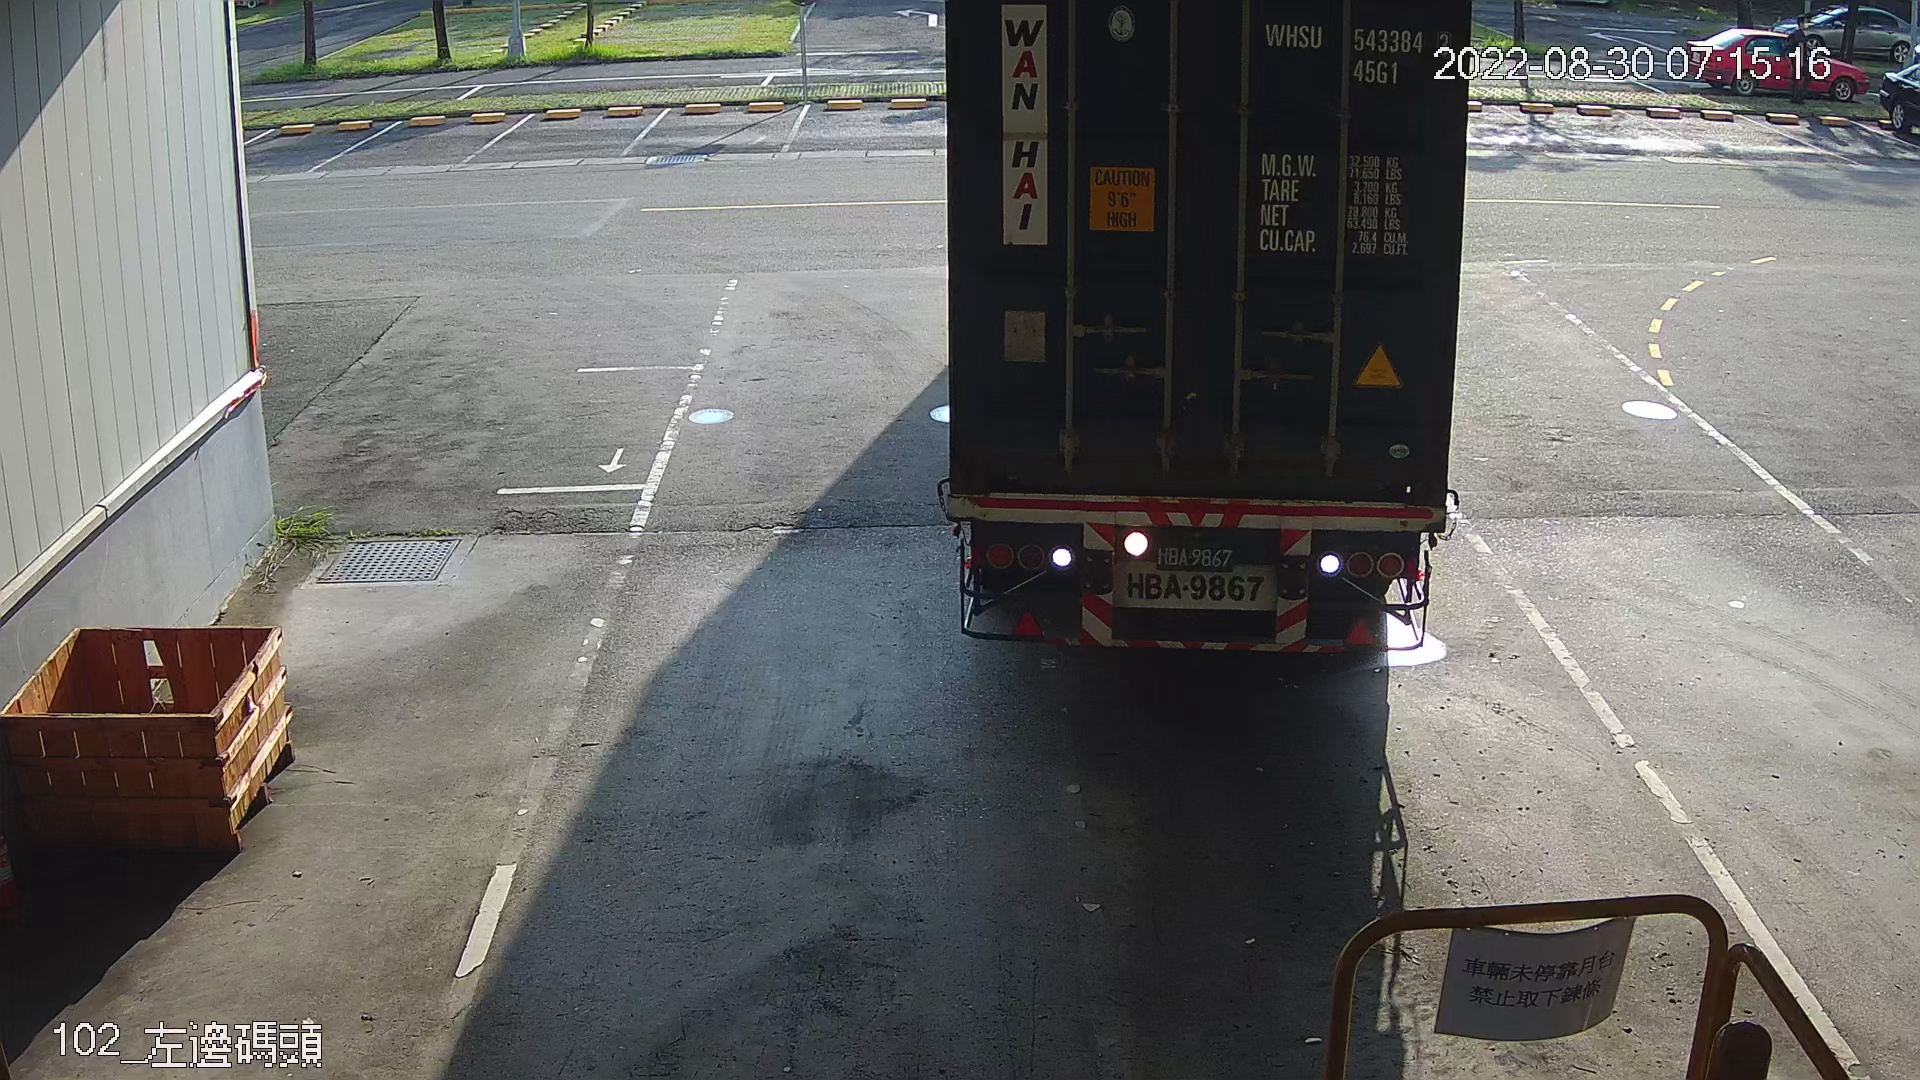container: (1259, 8, 1458, 99)
